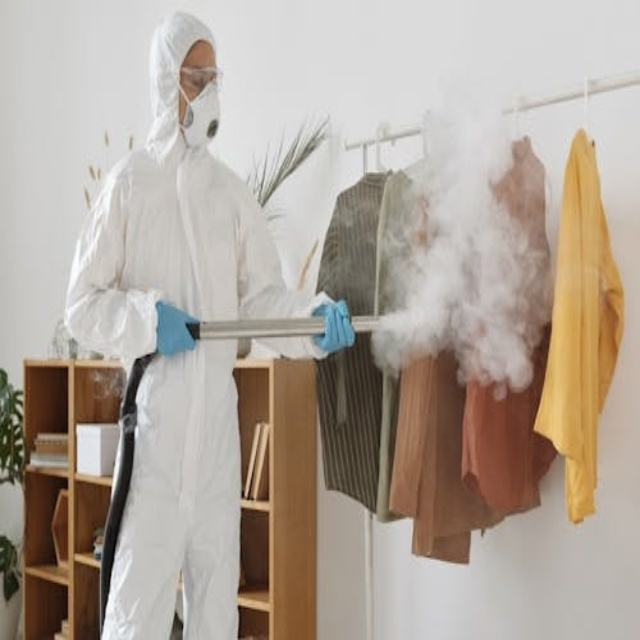Gafas: (179, 64, 223, 93)
Guantes: (311, 299, 355, 354), (155, 301, 198, 357)
Mascara: (179, 79, 221, 148)
